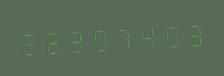four: (137, 18, 160, 53)
seven: (113, 19, 136, 54)
six: (41, 23, 64, 58)
three: (65, 22, 88, 57), (185, 16, 208, 50)
two: (17, 24, 40, 59)
zero: (161, 17, 184, 52), (89, 21, 112, 55)
